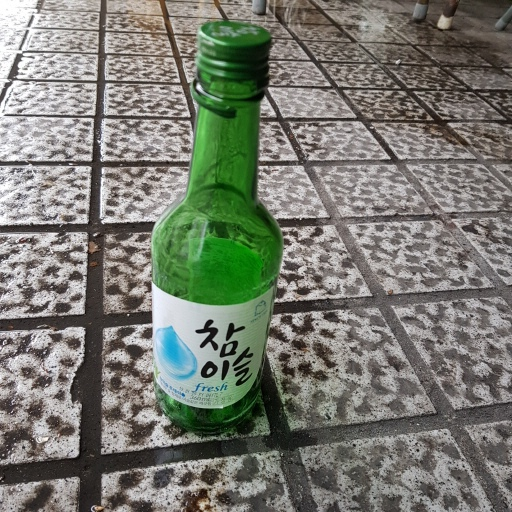Glass_0: (148, 20, 288, 427)
